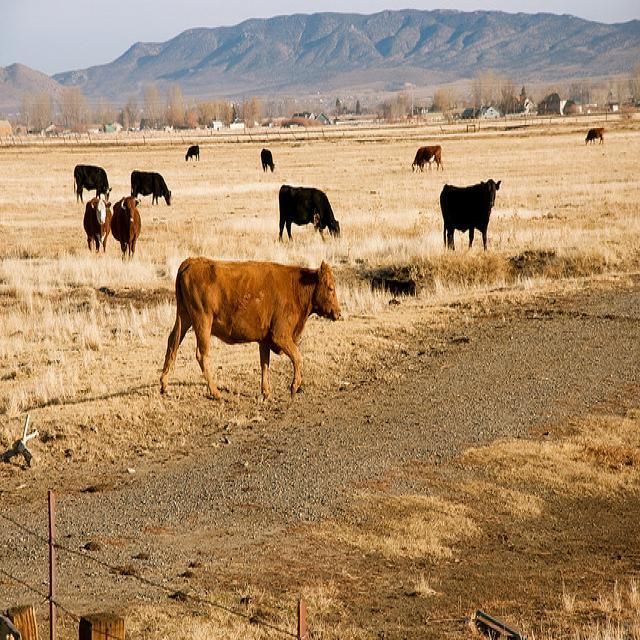cow: (158, 256, 341, 399), (439, 176, 500, 249), (277, 186, 340, 243), (109, 193, 140, 256), (82, 196, 111, 253), (129, 167, 170, 205), (72, 163, 111, 202), (418, 145, 434, 172), (584, 125, 603, 145), (259, 146, 274, 170), (184, 143, 198, 160)
